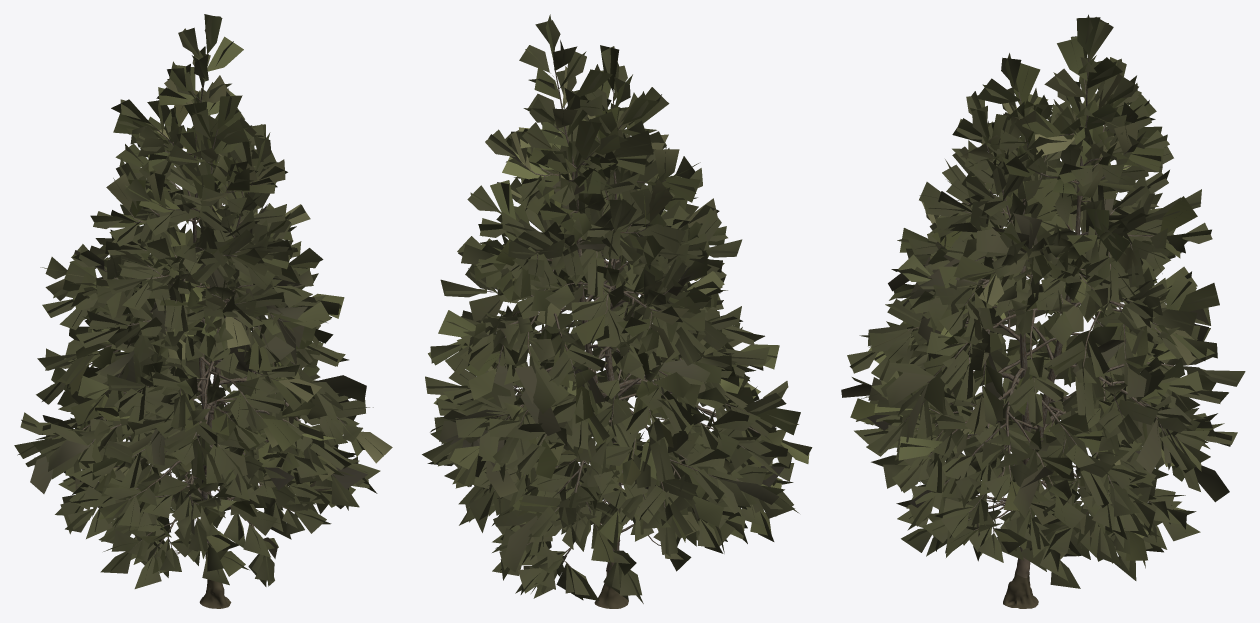
Rendered from SM_BlackAlder_Field_04_PP_LOD4.gltf.
The picture shows the model from 3 angles, left to right: view 1: azimuth 30°, elevation 25°; view 2: azimuth 150°, elevation 25°; view 3: azimuth 270°, elevation 25°; orthographic projection. The views are drawn at different scales.
Parts seen in each view (by area): view 1: SM_BlackAlder_Field_04_PP; view 2: SM_BlackAlder_Field_04_PP; view 3: SM_BlackAlder_Field_04_PP.
Part boxes in pixels (left/top/right/bottom): SM_BlackAlder_Field_04_PP: left=14, top=14, right=392, bottom=608; SM_BlackAlder_Field_04_PP: left=422, top=14, right=812, bottom=608; SM_BlackAlder_Field_04_PP: left=841, top=14, right=1245, bottom=608.
Bounding box in the file's own units: 6.82 × 11.48 × 6.99.
4 materials, 4 textured.
